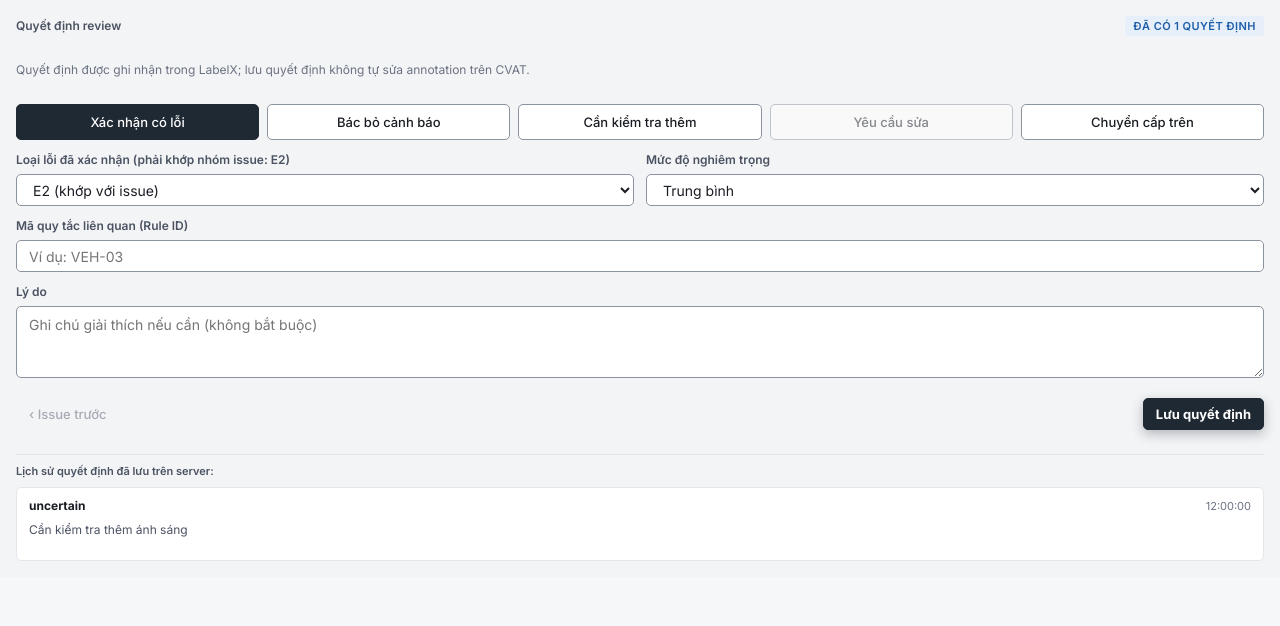
Test: T-035 PR130 Interface Integration Tests (T-037 Preparation) › ReviewDecisionForm T-035 contract behavior › reuses the exact same Idempotency-Key on uncertain network retry
# Attempt 1: fails
Click the button "Lưu quyết định" at (1203, 414), box [1143, 398, 1264, 430]
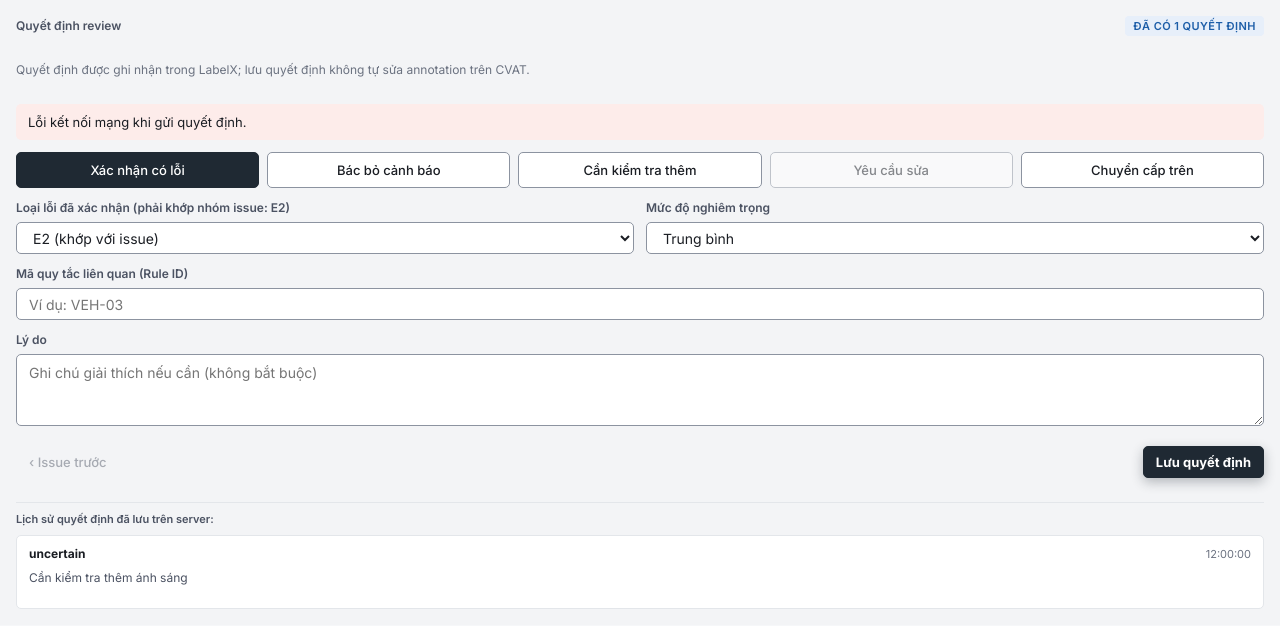
expect the text "Lỗi kết nối mạng khi gửi quyết định." is shown: met, box [28, 114, 246, 130]
# Attempt 2: retry same operation
Click the button "Lưu quyết định" at (1203, 462), box [1143, 446, 1264, 478]
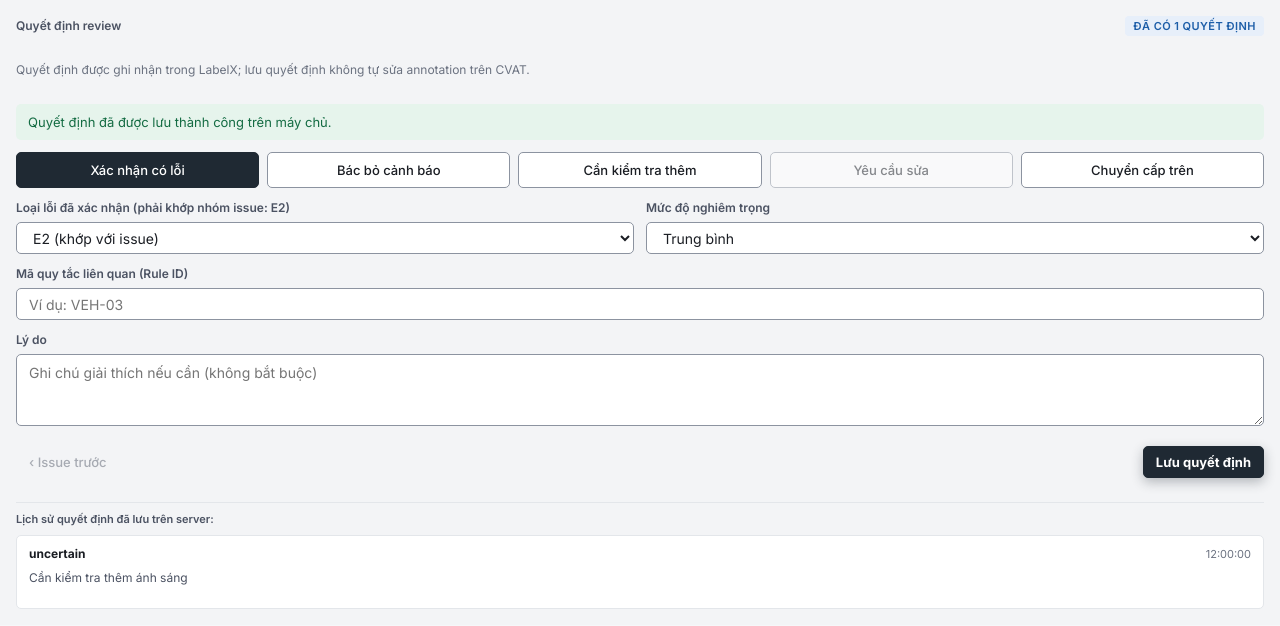
expect the text "Quyết định đã được lưu thành công trên máy chủ." is shown: met, box [28, 114, 332, 130]
